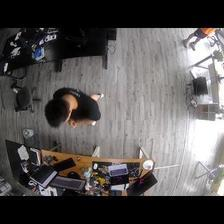normal: (45, 85, 102, 129), (183, 28, 215, 50)
